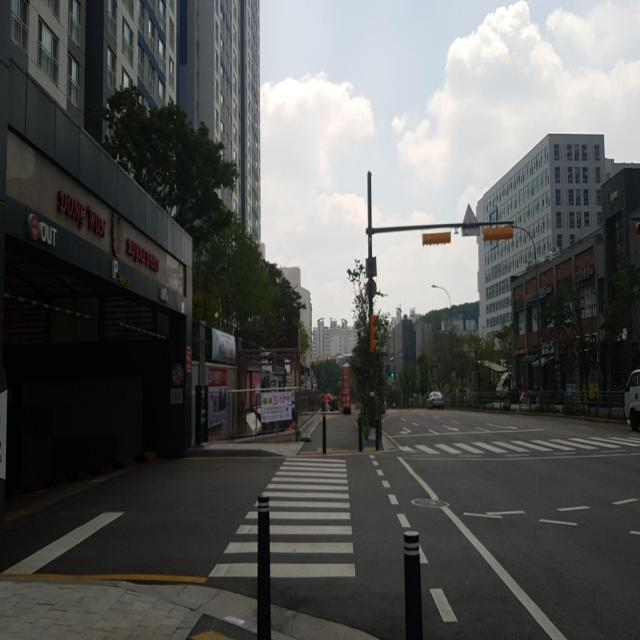횡단보도: (206, 453, 358, 580), (394, 435, 640, 462)
